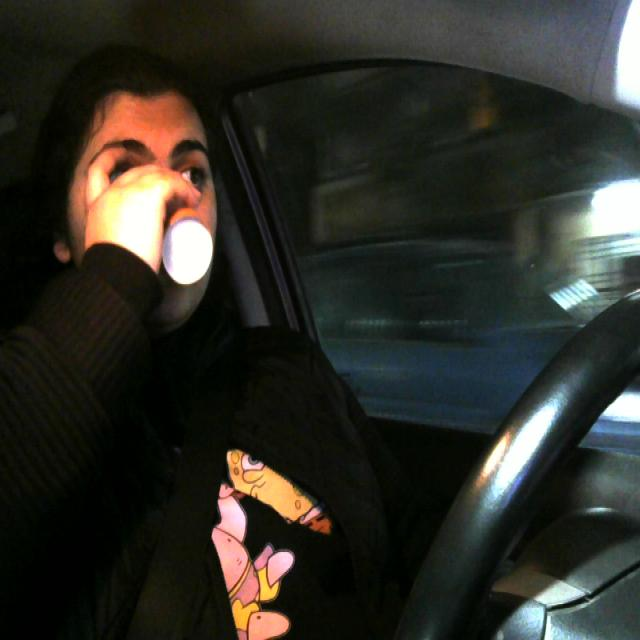drinking: (146, 184, 220, 297)
